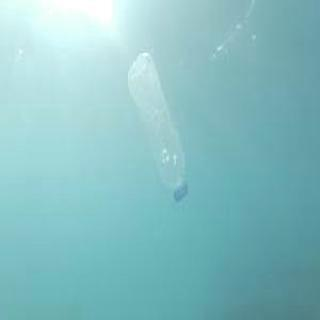Plastic: (125, 50, 193, 208)
